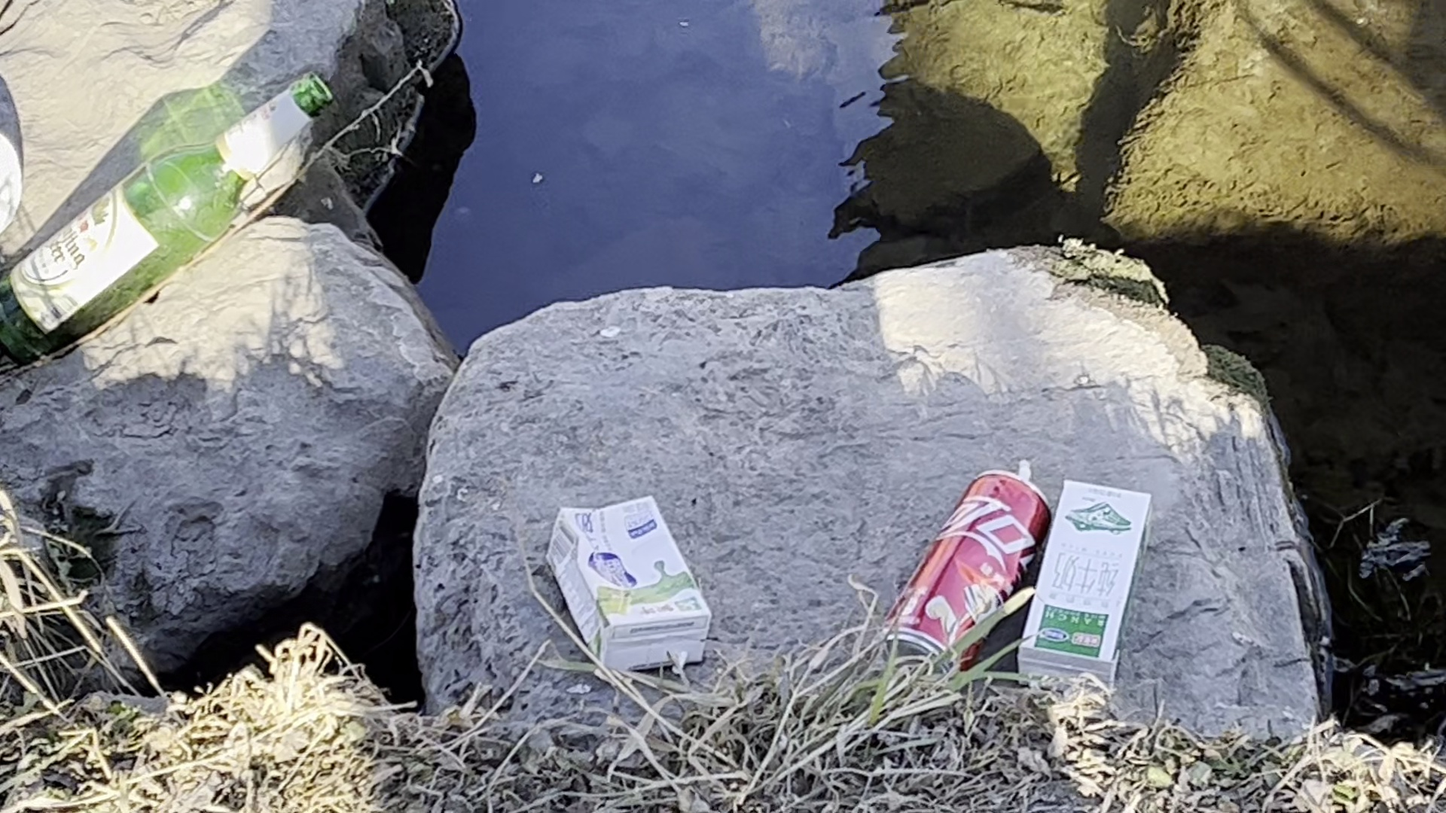floater: (5, 75, 338, 359), (876, 467, 1048, 681), (544, 492, 711, 680), (1020, 480, 1152, 701)
